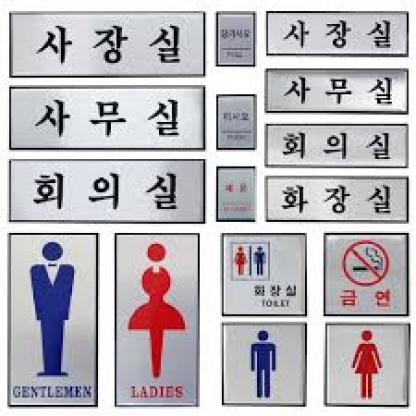toilet: (124, 242, 186, 381), (29, 236, 77, 378), (247, 327, 280, 400), (352, 329, 385, 399)
